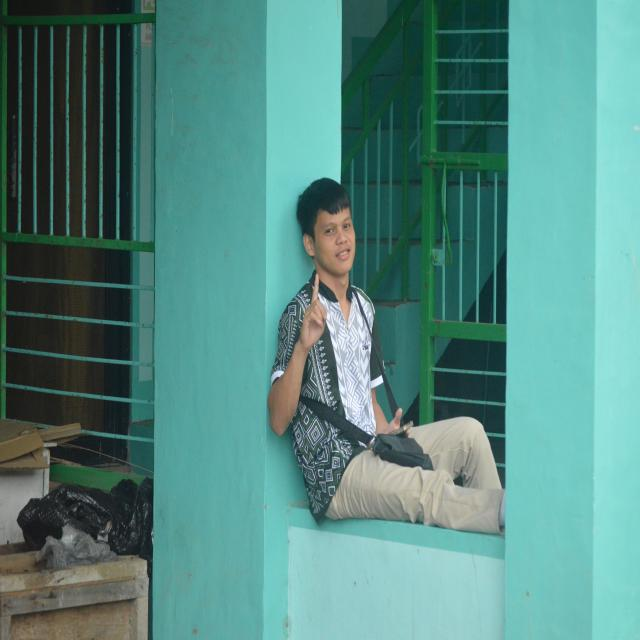person: (268, 179, 504, 533)
